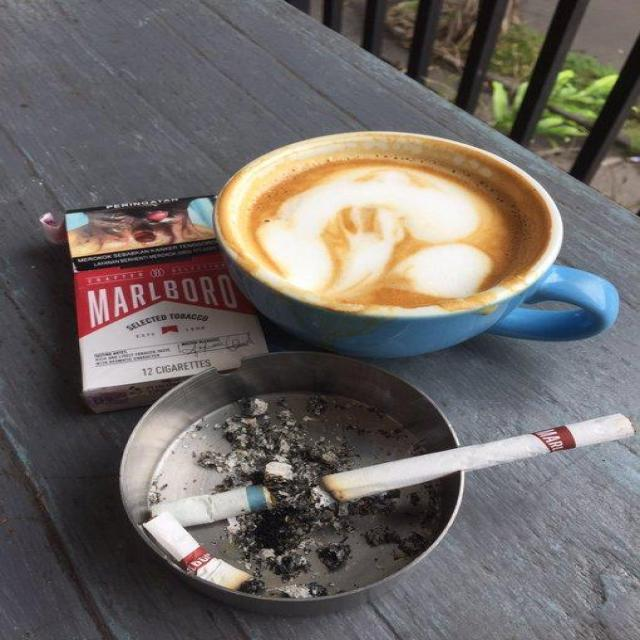rokok: (318, 413, 640, 497), (139, 520, 271, 596), (147, 484, 276, 520)
